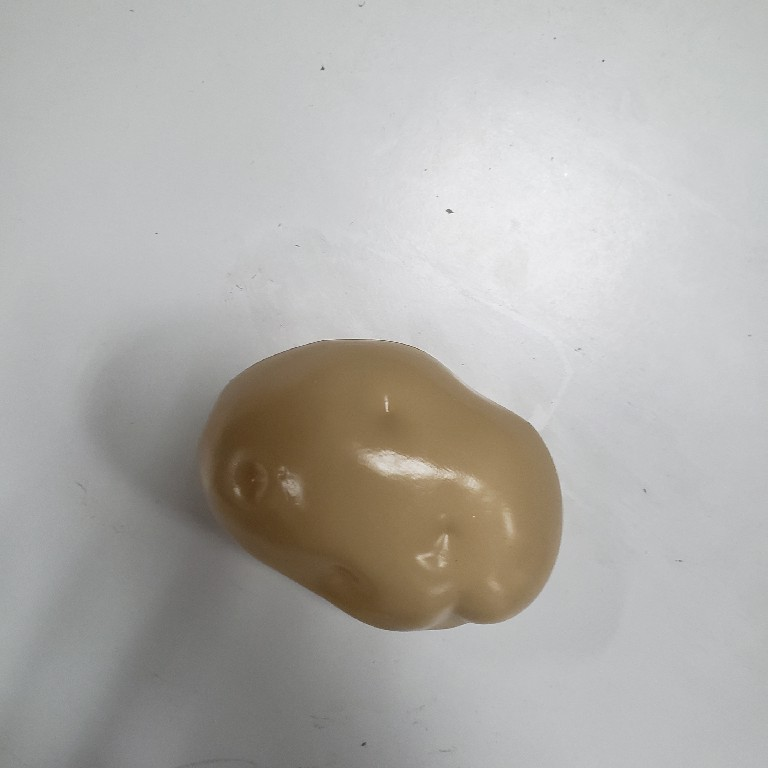fruit_potato: (194, 335, 570, 635)
